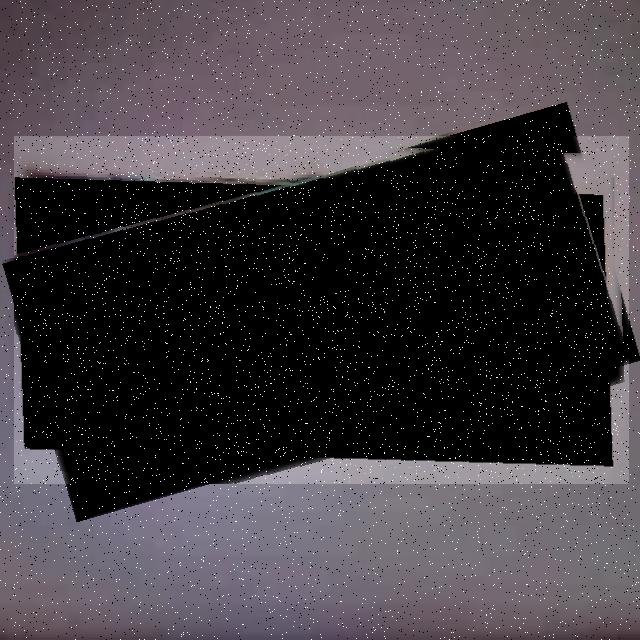lima puluh ribu rupiah: (14, 136, 629, 484)
